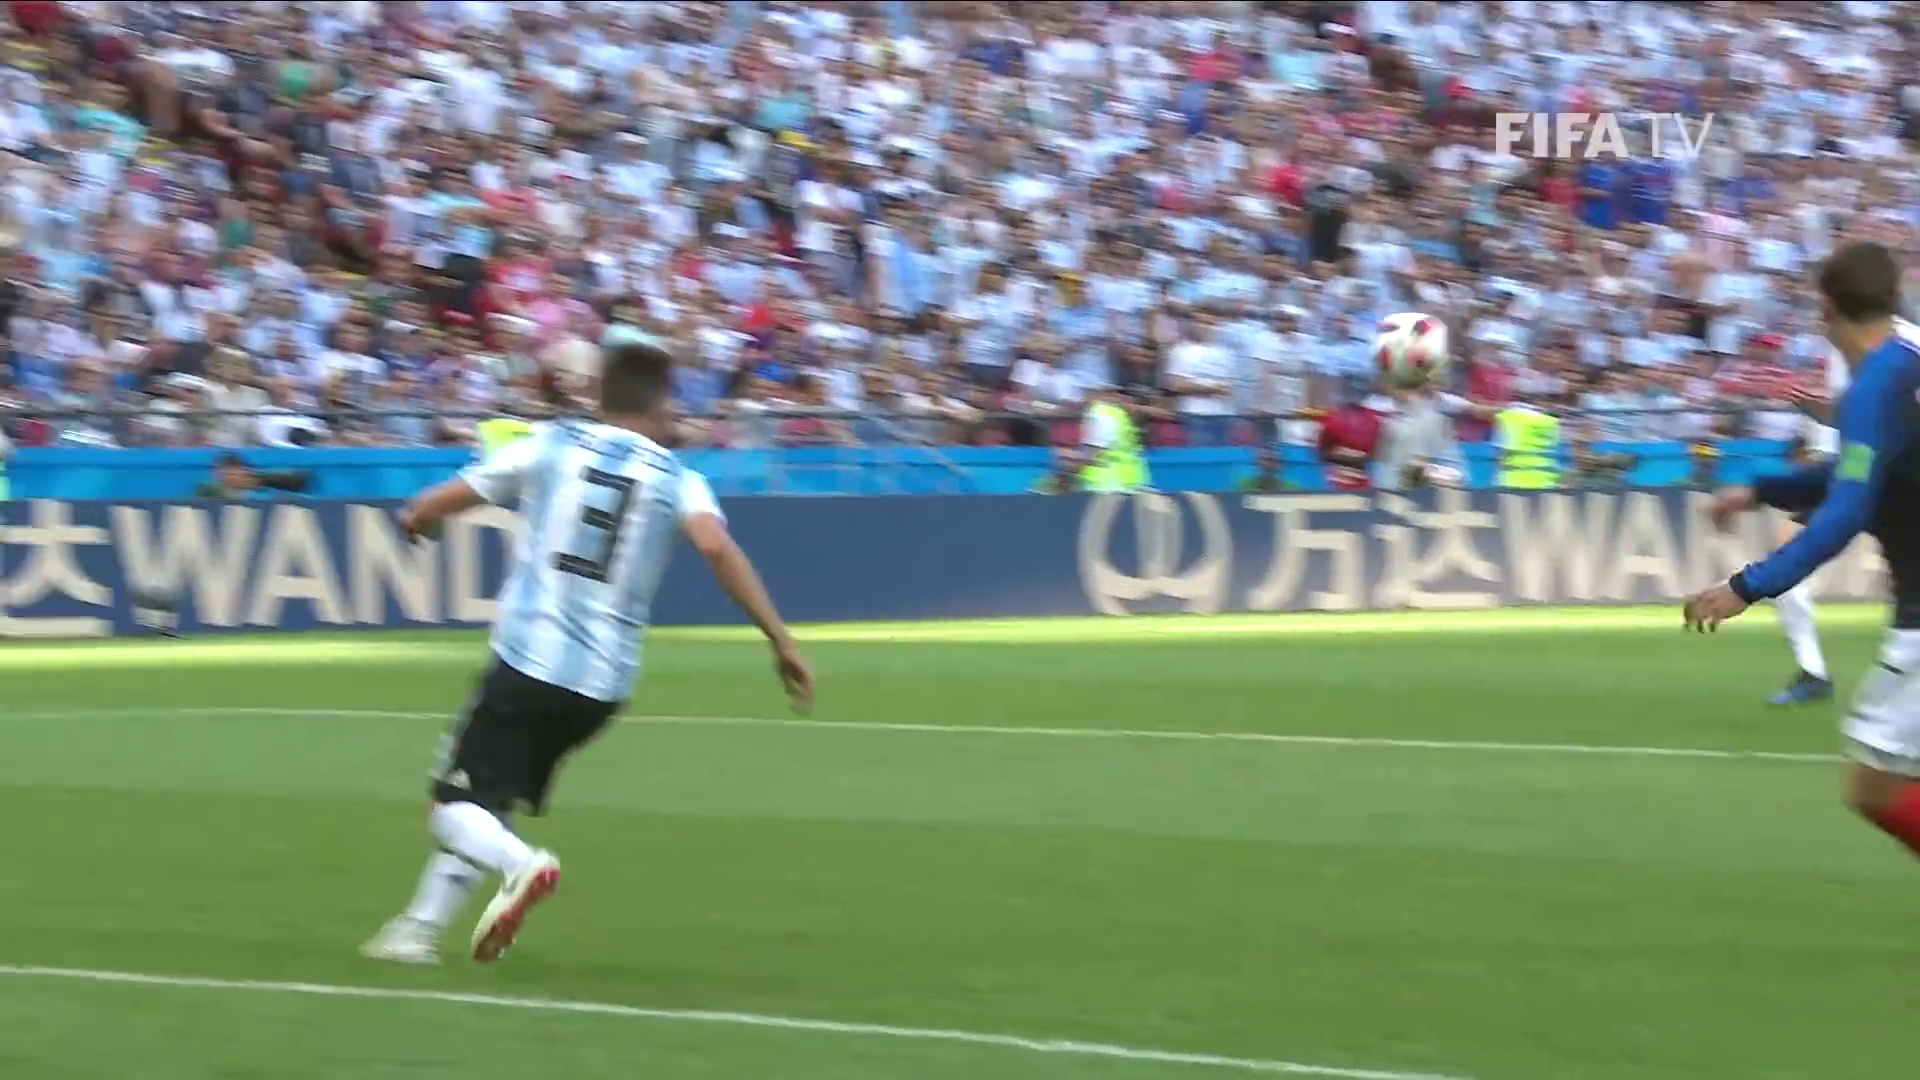ball: (1381, 316, 1450, 390)
person: (379, 351, 730, 961), (1701, 245, 1920, 868)
